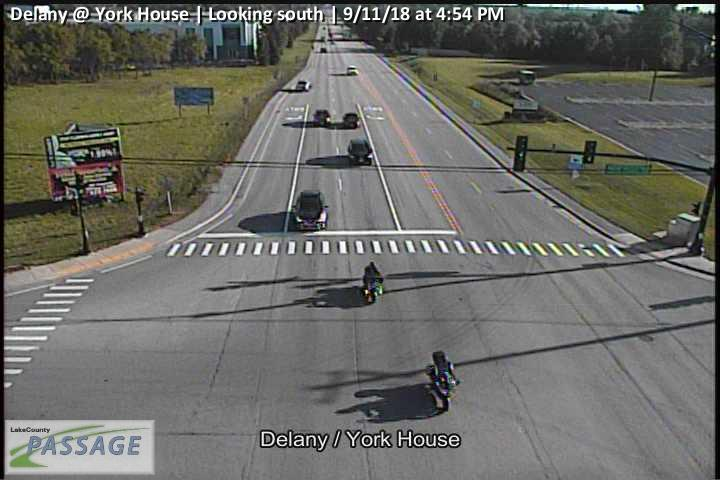Motorbike: (427, 351, 463, 411)
SUV: (292, 191, 329, 228), (348, 139, 374, 165)
Sedan: (362, 261, 385, 304), (313, 109, 330, 125), (343, 113, 361, 127), (296, 80, 312, 93), (347, 64, 359, 75)
